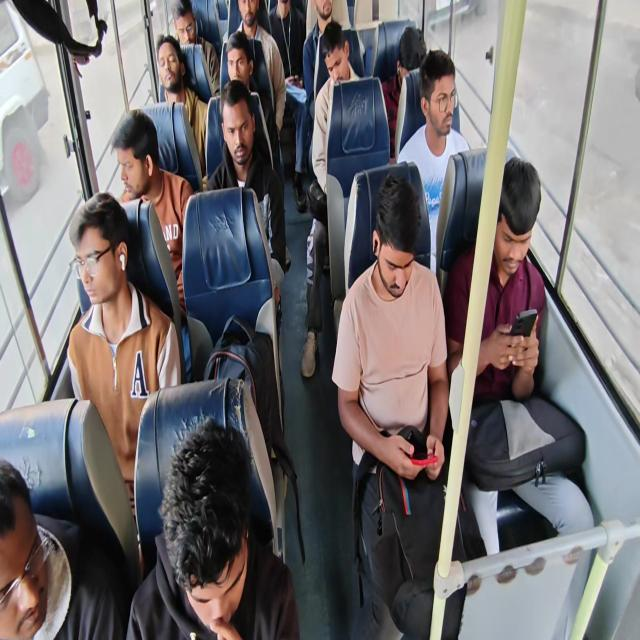person: (150, 422, 264, 640), (372, 178, 476, 380), (66, 197, 148, 412), (458, 154, 547, 310), (0, 461, 68, 640), (96, 112, 177, 212), (424, 60, 467, 163), (220, 93, 265, 183), (404, 22, 434, 132), (151, 39, 198, 108), (267, 0, 305, 71), (320, 28, 355, 90), (221, 40, 269, 80), (232, 0, 268, 46), (168, 1, 198, 44), (310, 0, 344, 32)
